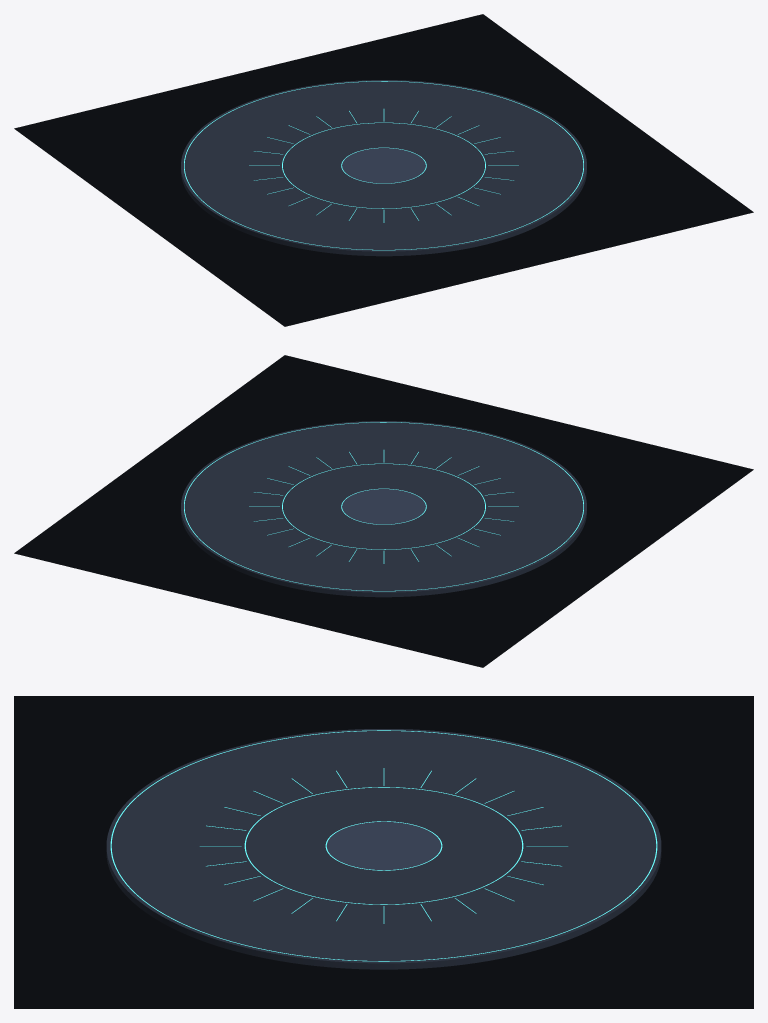
3 renders of one model, top to bottom at view 1: azimuth 30°, elevation 25°; view 2: azimuth 150°, elevation 25°; view 3: azimuth 270°, elevation 25°, orthographic. The views are drawn at different scales.
Parts seen in each view (by area): view 1: nexo_floor.lod0; view 2: nexo_floor.lod0; view 3: nexo_floor.lod0.
Part boxes in pixels (left/top/right/bottom): nexo_floor.lod0: left=14, top=14, right=753, bottom=326; nexo_floor.lod0: left=14, top=355, right=753, bottom=667; nexo_floor.lod0: left=14, top=696, right=753, bottom=1008.
Size of the model in its own units: 64 by 0.6328 by 64.
